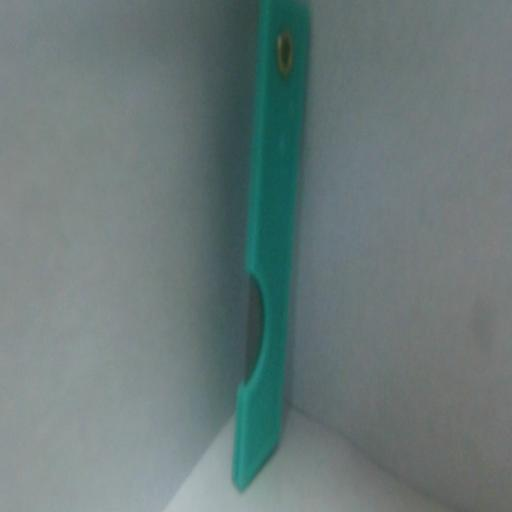rubbish: (229, 0, 312, 493)
